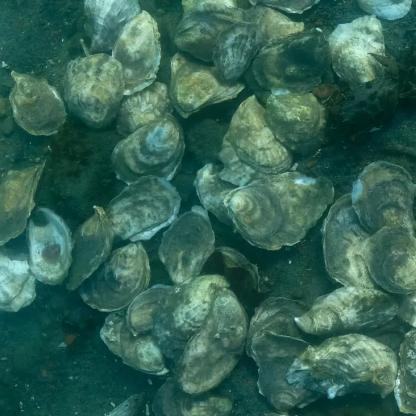Oyster- Indeterminate: (105, 176, 182, 241), (112, 11, 162, 95), (127, 284, 176, 336)
Oyster-Closed: (322, 193, 416, 327), (222, 171, 334, 250), (175, 288, 247, 394), (287, 333, 398, 398), (151, 273, 233, 360), (218, 95, 294, 186), (251, 331, 327, 410), (111, 114, 186, 185), (294, 285, 399, 335), (253, 29, 331, 95), (79, 242, 151, 313), (352, 161, 416, 238), (245, 298, 324, 360), (169, 52, 245, 116), (63, 54, 124, 129), (175, 2, 249, 63), (101, 308, 168, 375), (159, 206, 215, 283), (66, 205, 114, 290), (329, 17, 385, 86), (0, 162, 45, 246), (267, 93, 330, 153), (361, 226, 416, 293), (10, 72, 67, 136), (116, 82, 174, 137), (152, 379, 233, 416), (85, 0, 141, 53), (194, 164, 240, 228), (214, 22, 263, 82), (245, 4, 305, 47), (219, 248, 274, 292), (0, 247, 36, 313), (395, 329, 416, 413), (357, 0, 413, 19), (249, 0, 318, 15), (106, 394, 148, 416), (182, 0, 236, 17)
